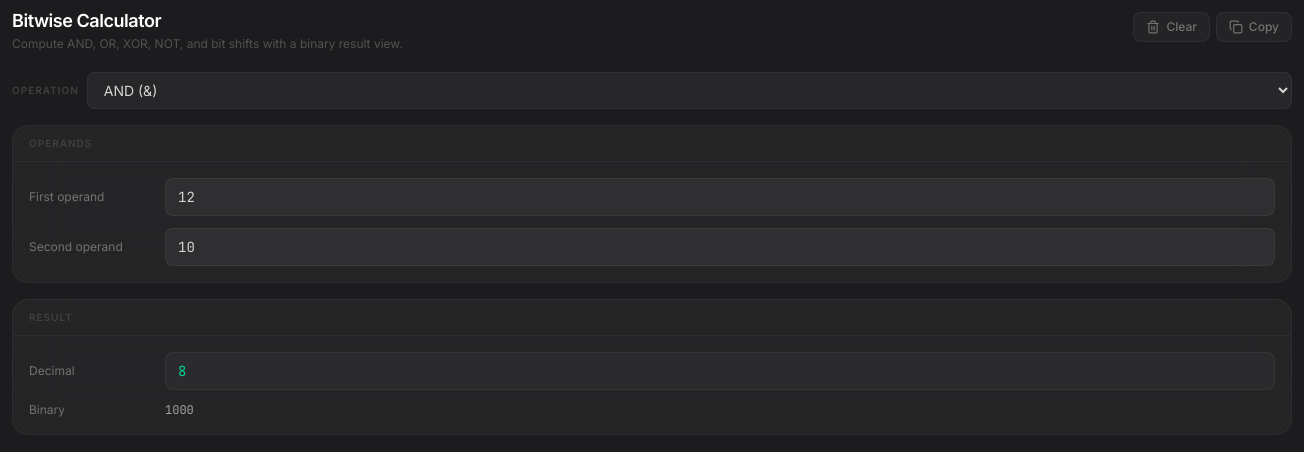
Test: BitwiseCalculatorTool › disables the second operand for NOT
This screenshot has width=1304, height=452.
Select "NOT (~)" in the dropdown labelled "Operation" at (689, 90), box [87,72,1292,109]
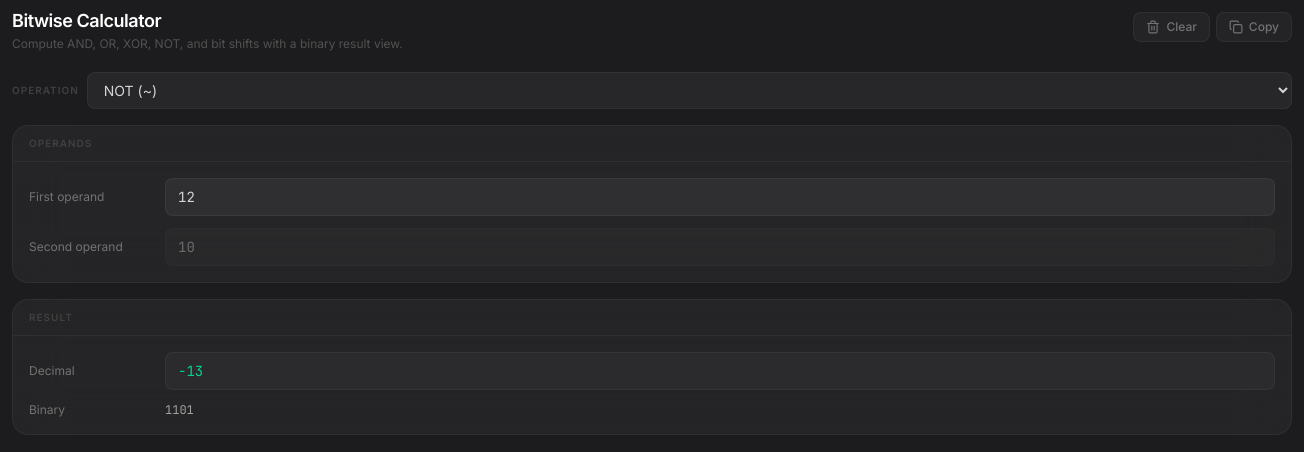
Expected: the number field labelled "Second operand" is disabled, [165,228,1275,266]
